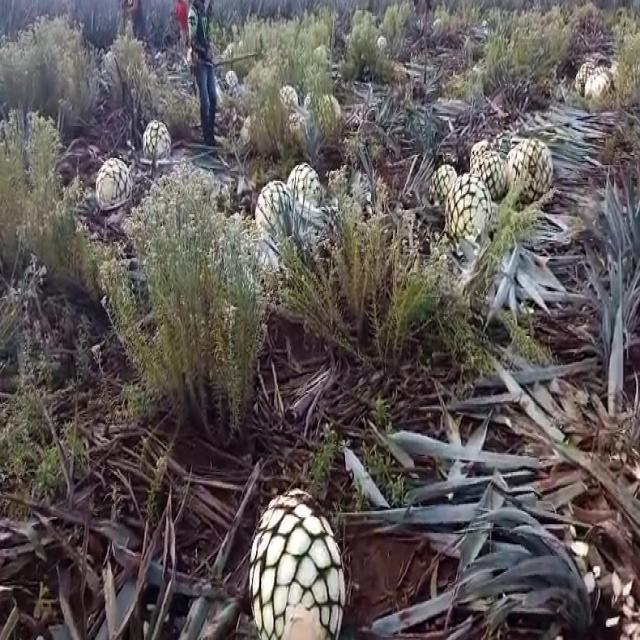agave: (245, 482, 345, 640), (502, 138, 555, 211), (442, 170, 491, 246), (254, 176, 294, 252), (91, 154, 135, 220), (139, 116, 174, 176), (470, 147, 506, 205), (286, 166, 322, 223), (426, 160, 458, 210), (318, 94, 348, 128), (276, 81, 300, 119), (572, 62, 598, 97), (238, 113, 259, 151)
